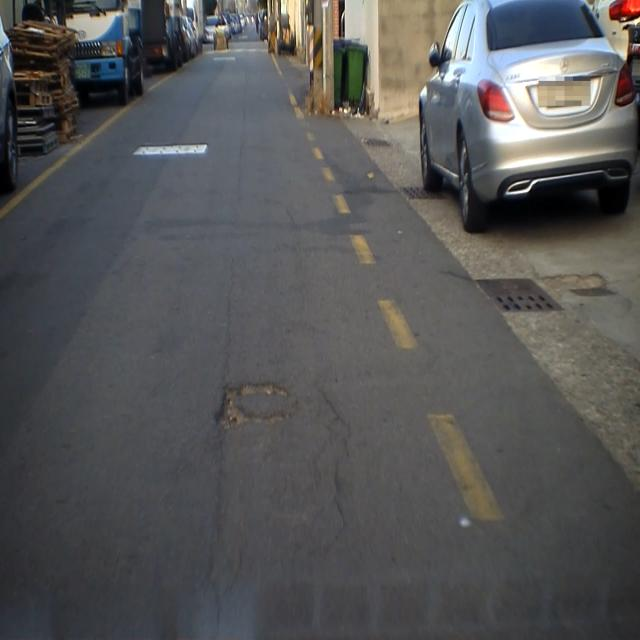Pothole: (211, 370, 302, 437)
